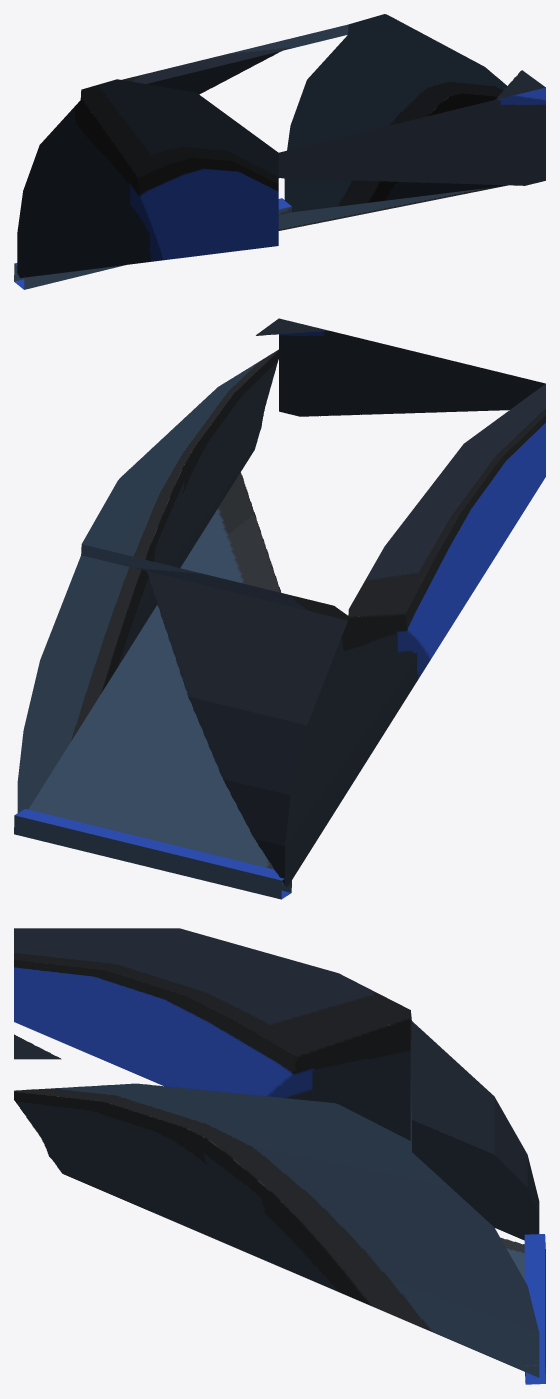
File: df11g_carport_eh.obj
3 renders of one model, top to bottom at view 1: azimuth 30°, elevation 25°; view 2: azimuth 150°, elevation 25°; view 3: azimuth 270°, elevation 25°, orthographic.
Visible parts, largest first — view 1: cube_selection; view 2: cube_selection; view 3: cube_selection.
Part boxes in pixels (x1,y1,x2,y2): cube_selection: [14, 14, 545, 289]; cube_selection: [14, 318, 545, 899]; cube_selection: [14, 928, 545, 1384].
Size of the model in its own units: 0.9391 by 1.08 by 1.61.
